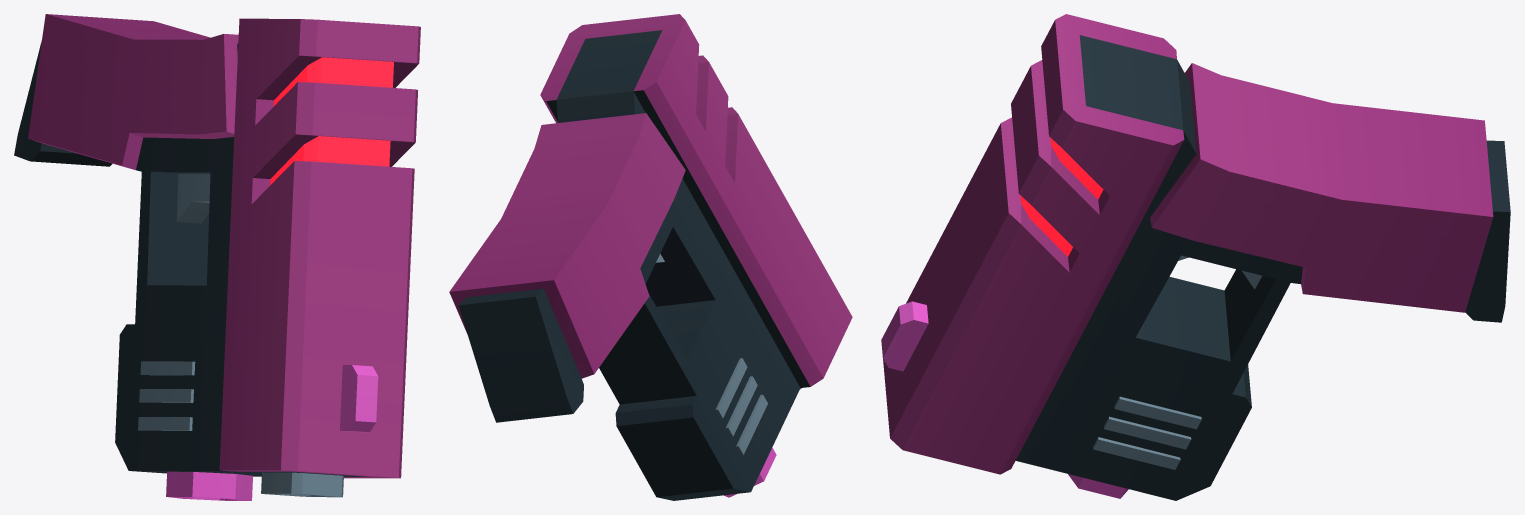
The model's file is Level3Gun.fbx.
The picture shows the model from 3 angles, left to right: view 1: azimuth 30°, elevation 25°; view 2: azimuth 150°, elevation 25°; view 3: azimuth 270°, elevation 25°; orthographic projection. The views are drawn at different scales.
Visible parts, largest first — view 1: Gun_01_Pink; view 2: Gun_01_Pink; view 3: Gun_01_Pink.
Part boxes in pixels (x1,y1,x2,y2): Gun_01_Pink: (14,14,420,500); Gun_01_Pink: (449,14,852,500); Gun_01_Pink: (881,14,1510,500).
Size of the model in its own units: 21.84 by 41.31 by 46.18.
Materials: 1 (1 with a texture image).
